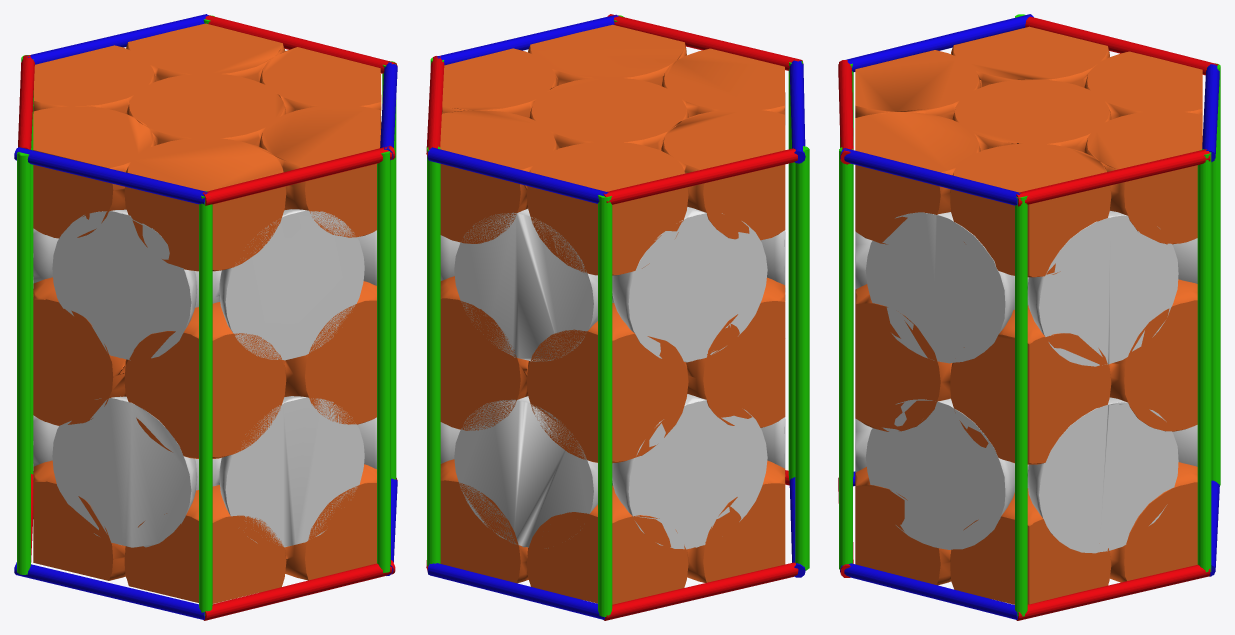
The model's file is hexagonal centrada en el cuerpo.obj.glb.
3 views of the same model, side by side, from view 1: azimuth 30°, elevation 25°; view 2: azimuth 150°, elevation 25°; view 3: azimuth 270°, elevation 25° (orthographic).
Visible parts, largest first — view 1: Sphere.515_Sphere.589, Sphere.521_Sphere.595, Cylinder.164_Cylinder.176, Cylinder.166_Cylinder.178, Cylinder.167_Cylinder.179, Cylinder.156_Cylinder.168, Cylinder.162_Cylinder.174, Cylinder.155_Cylinder.167, Cylinder.161_Cylinder.173, Cylinder.165_Cylinder.177, Cylinder.151_Cylinder.163, Cylinder.154_Cylinder.166 (+3 smaller); view 2: Sphere.515_Sphere.589, Sphere.521_Sphere.595, Cylinder.163_Cylinder.175, Cylinder.164_Cylinder.176, Cylinder.168_Cylinder.180, Cylinder.158_Cylinder.170, Cylinder.152_Cylinder.164, Cylinder.167_Cylinder.179, Cylinder.151_Cylinder.163, Cylinder.157_Cylinder.169, Cylinder.156_Cylinder.168, Cylinder.153_Cylinder.165 (+3 smaller); view 3: Sphere.515_Sphere.589, Sphere.521_Sphere.595, Cylinder.168_Cylinder.180, Cylinder.166_Cylinder.178, Cylinder.165_Cylinder.177, Cylinder.163_Cylinder.175, Cylinder.154_Cylinder.166, Cylinder.160_Cylinder.172, Cylinder.153_Cylinder.165, Cylinder.159_Cylinder.171, Cylinder.155_Cylinder.167, Cylinder.152_Cylinder.164 (+3 smaller).
Boxes of the visible parts, box(x1,y1,x2,y2) form: Sphere.515_Sphere.589: box(33, 23, 381, 603); Sphere.521_Sphere.595: box(33, 209, 376, 547); Cylinder.164_Cylinder.176: box(17, 152, 30, 574); Cylinder.166_Cylinder.178: box(377, 151, 390, 572); Cylinder.167_Cylinder.179: box(199, 191, 212, 615); Cylinder.156_Cylinder.168: box(202, 145, 395, 205); Cylinder.162_Cylinder.174: box(203, 560, 395, 620); Cylinder.155_Cylinder.167: box(14, 147, 208, 204); Cylinder.161_Cylinder.173: box(14, 562, 204, 619); Cylinder.165_Cylinder.177: box(382, 61, 396, 479); Cylinder.151_Cylinder.163: box(27, 14, 208, 64); Cylinder.154_Cylinder.166: box(205, 15, 397, 73); Sphere.515_Sphere.589: box(440, 24, 785, 604); Sphere.521_Sphere.595: box(440, 207, 785, 549); Cylinder.163_Cylinder.175: box(598, 195, 612, 616); Cylinder.164_Cylinder.176: box(795, 146, 809, 570); Cylinder.168_Cylinder.180: box(427, 146, 440, 566); Cylinder.158_Cylinder.170: box(603, 562, 798, 620); Cylinder.152_Cylinder.164: box(603, 148, 797, 204); Cylinder.167_Cylinder.179: box(788, 61, 802, 480); Cylinder.151_Cylinder.163: box(427, 147, 608, 203); Cylinder.157_Cylinder.169: box(427, 563, 604, 619); Cylinder.156_Cylinder.168: box(607, 14, 803, 70); Cylinder.153_Cylinder.165: box(436, 14, 618, 65); Sphere.515_Sphere.589: box(855, 26, 1202, 604); Sphere.521_Sphere.595: box(855, 211, 1197, 553); Cylinder.168_Cylinder.180: box(1197, 149, 1211, 572); Cylinder.166_Cylinder.178: box(839, 147, 852, 569); Cylinder.165_Cylinder.177: box(1015, 196, 1027, 616); Cylinder.163_Cylinder.175: box(1207, 63, 1220, 485); Cylinder.154_Cylinder.166: box(1016, 149, 1210, 206); Cylinder.160_Cylinder.172: box(1016, 564, 1210, 620); Cylinder.153_Cylinder.165: box(840, 148, 1020, 205); Cylinder.159_Cylinder.171: box(840, 563, 1017, 619); Cylinder.155_Cylinder.167: box(846, 14, 1033, 71); Cylinder.152_Cylinder.164: box(1025, 16, 1218, 75).
Size of the model in its own units: 1.01 by 1.09 by 0.888.
